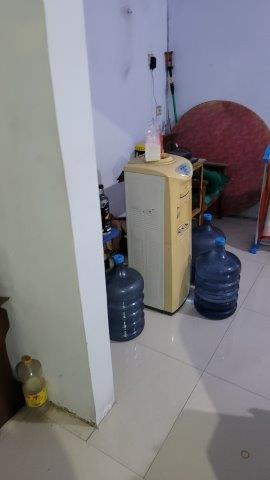botolkaca: (96, 182, 113, 232)
